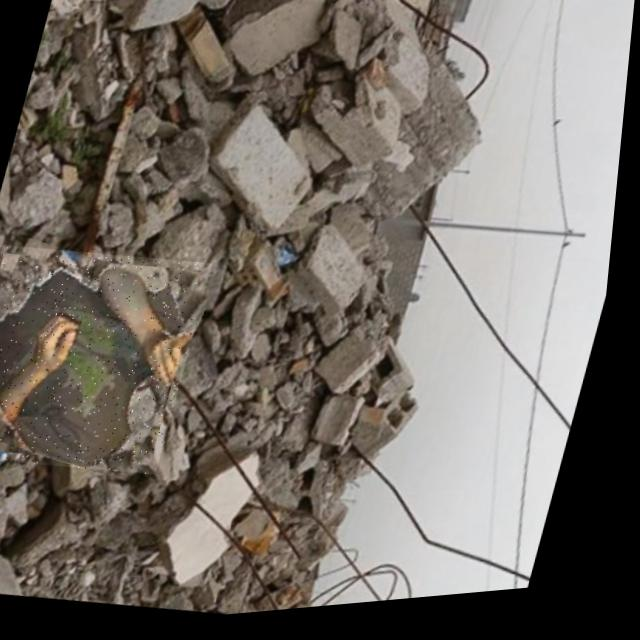Person in Rubble: (0, 229, 219, 492)
